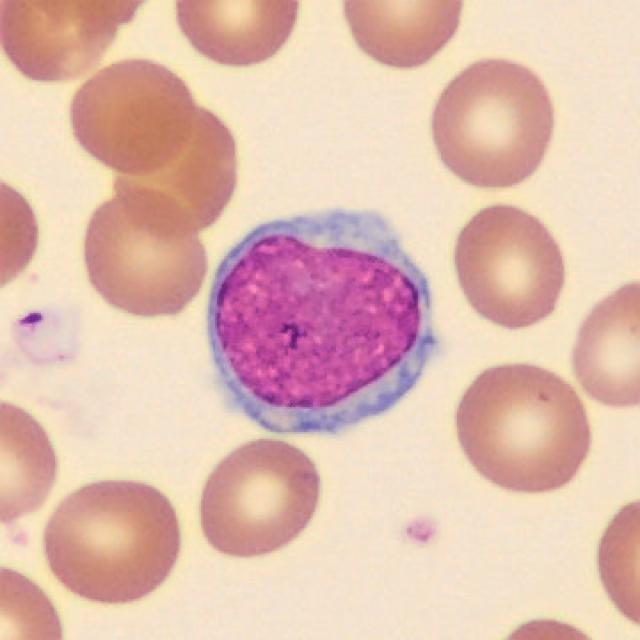Linfocito: (206, 210, 436, 434)
